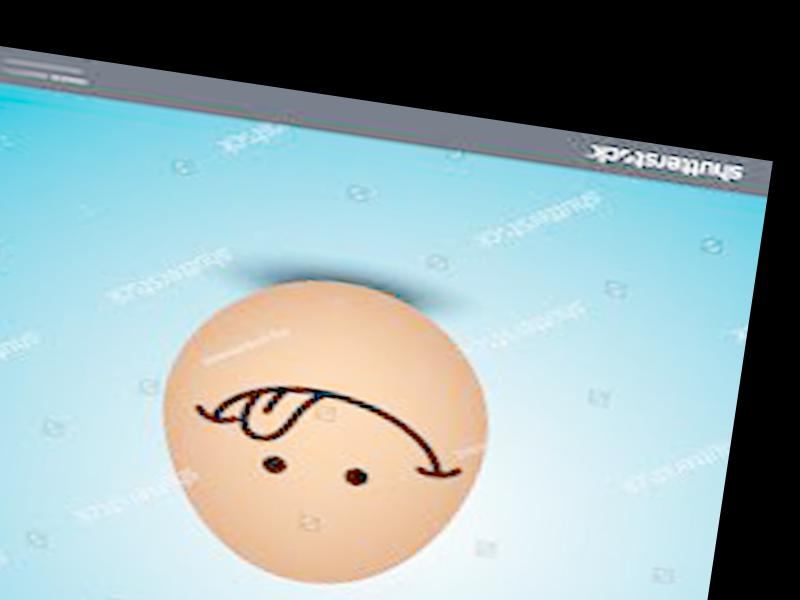Eggs: (139, 258, 508, 600)
